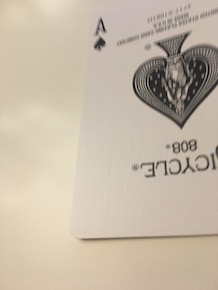AceOfSpades: (69, 1, 218, 241)
